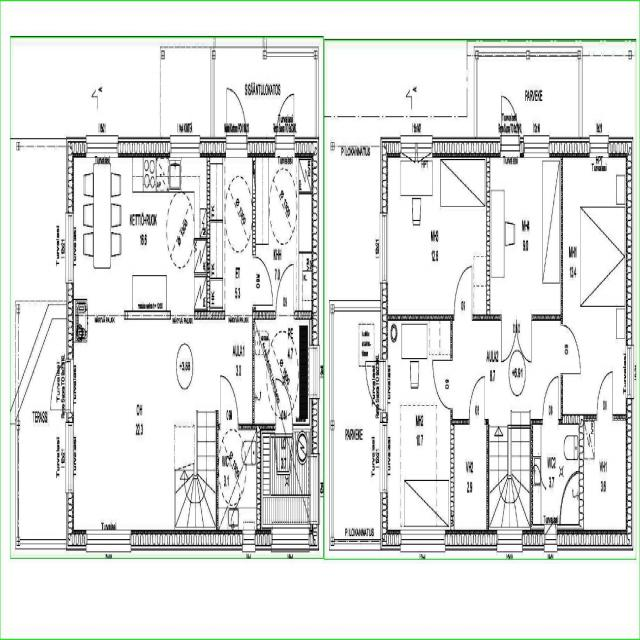door: (227, 82, 247, 158), (48, 360, 74, 410), (363, 360, 388, 409), (276, 89, 294, 157), (501, 88, 519, 156), (276, 262, 294, 319), (220, 374, 238, 429), (252, 258, 273, 305), (561, 325, 580, 373), (433, 361, 452, 408), (276, 378, 292, 429), (516, 314, 532, 363), (543, 376, 559, 424), (501, 314, 516, 363), (597, 371, 612, 420), (470, 377, 484, 424)
